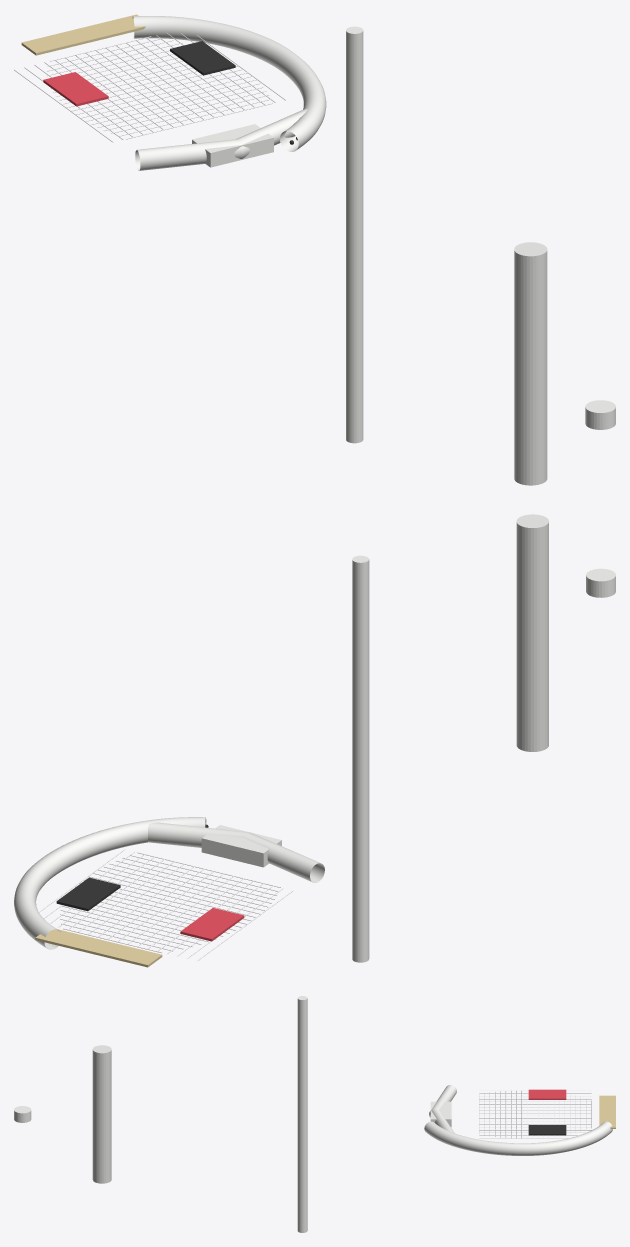
File: li-ning-aeronaut-9000.glb
3 renders of one model, top to bottom at view 1: azimuth 30°, elevation 25°; view 2: azimuth 150°, elevation 25°; view 3: azimuth 270°, elevation 25°, orthographic. The views are drawn at different scales.
Parts seen in each view (by area): view 1: Grip, Shaft, HeadFrame, Throat, GoldTop, TJoint, BlackR, RedL, ButtCap; view 2: Grip, Shaft, HeadFrame, Throat, GoldTop, TJoint, RedL, BlackR, ButtCap; view 3: Grip, Shaft, HeadFrame, Throat, GoldTop, RedL, BlackR.
Boxes of the visible parts, left/top/right/bottom form: Grip: left=514, top=242, right=547, bottom=485; Shaft: left=346, top=26, right=363, bottom=443; HeadFrame: left=132, top=16, right=326, bottom=151; Throat: left=135, top=108, right=307, bottom=170; GoldTop: left=21, top=14, right=145, bottom=55; TJoint: left=192, top=124, right=273, bottom=167; BlackR: left=170, top=41, right=235, bottom=75; RedL: left=43, top=72, right=108, bottom=106; ButtCap: left=585, top=400, right=615, bottom=429; Grip: left=516, top=514, right=548, bottom=751; Shaft: left=352, top=555, right=369, bottom=962; HeadFrame: left=14, top=817, right=206, bottom=949; Throat: left=148, top=822, right=324, bottom=882; GoldTop: left=35, top=929, right=162, bottom=967; TJoint: left=201, top=825, right=281, bottom=867; RedL: left=180, top=908, right=244, bottom=941; BlackR: left=56, top=877, right=120, bottom=911; ButtCap: left=586, top=568, right=615, bottom=597; Grip: left=92, top=1045, right=111, bottom=1183; Shaft: left=297, top=996, right=307, bottom=1232; HeadFrame: left=424, top=1121, right=612, bottom=1155; Throat: left=429, top=1085, right=456, bottom=1133; GoldTop: left=599, top=1095, right=615, bottom=1128; RedL: left=528, top=1089, right=566, bottom=1099; BlackR: left=528, top=1125, right=566, bottom=1135.
Size of the model in its own units: 0.1955 by 0.3392 by 0.7949.
